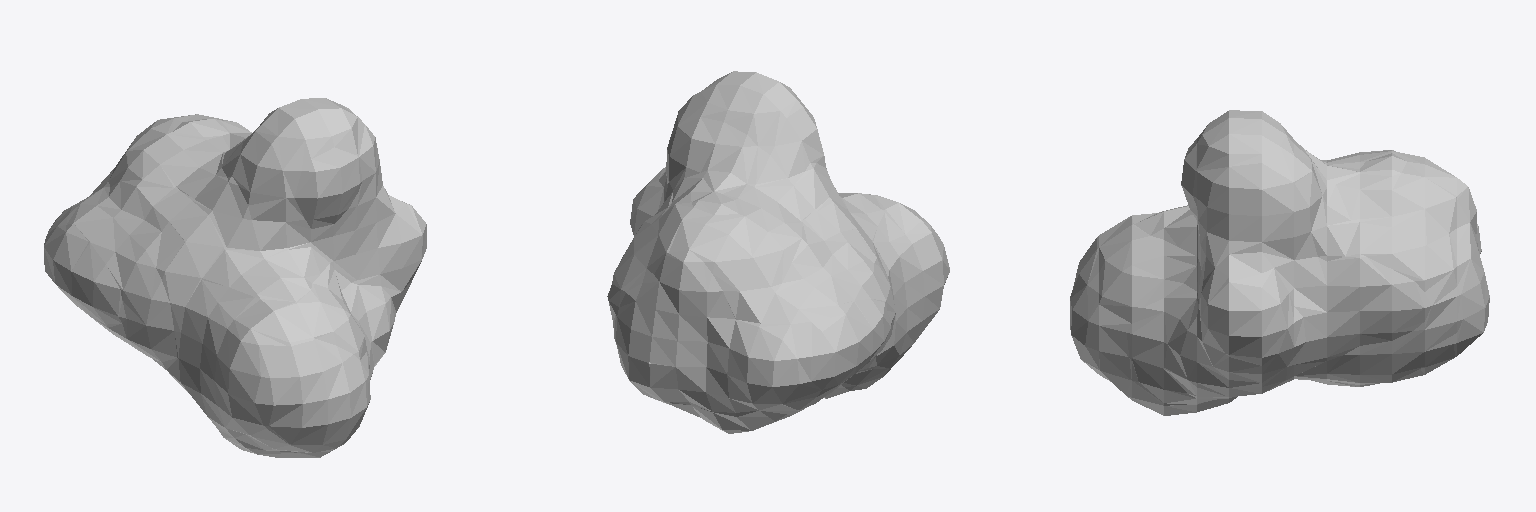
The model's file is 5azb_mb_cms.obj.
3 renders of one model, left to right at view 1: azimuth 30°, elevation 25°; view 2: azimuth 150°, elevation 25°; view 3: azimuth 270°, elevation 25°, orthographic.
Bounding box in the file's own units: 61.05 × 61.91 × 75.65.